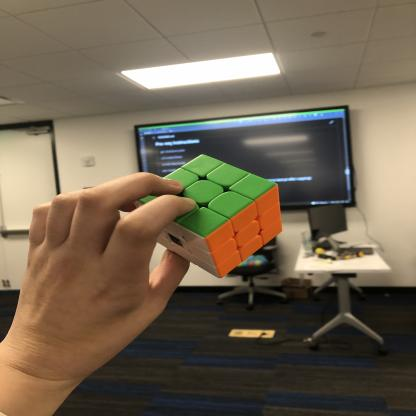SolvedCube: (135, 152, 287, 280)
